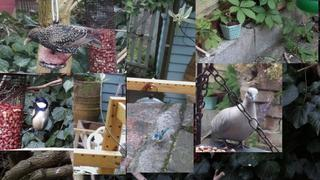blue tit: (152, 127, 170, 150)
collared dove: (201, 87, 258, 149)
great tit: (18, 97, 50, 136)
starling: (24, 24, 103, 54)
